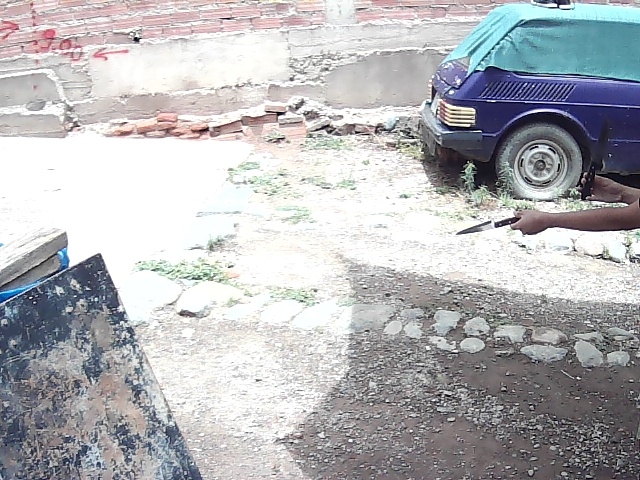cuchillo: (449, 213, 510, 242)
